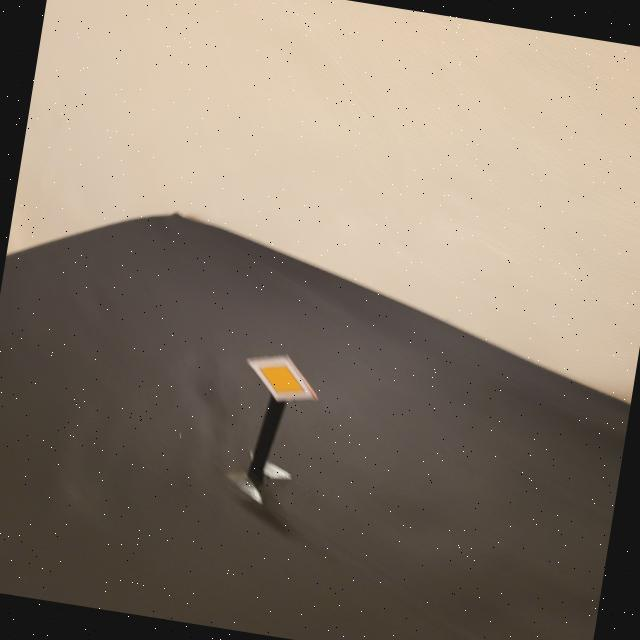priority: (240, 348, 324, 409)
